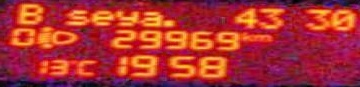-: (161, 17, 176, 26)
0: (331, 7, 357, 32), (7, 25, 31, 47)
1: (114, 53, 127, 78), (36, 58, 48, 77)
2: (108, 27, 135, 48)
3: (258, 5, 284, 32), (304, 7, 329, 31), (48, 57, 66, 76)
4: (228, 6, 256, 29)
5: (165, 53, 196, 78)
6: (188, 29, 214, 49)
8: (197, 54, 228, 77)
9: (129, 53, 160, 77), (213, 29, 238, 50), (137, 27, 161, 47), (163, 29, 186, 49)
X: (15, 1, 44, 24), (75, 57, 98, 78), (140, 8, 163, 27), (66, 8, 87, 25), (116, 9, 137, 26), (91, 8, 111, 25), (253, 34, 274, 41), (240, 30, 253, 41)
